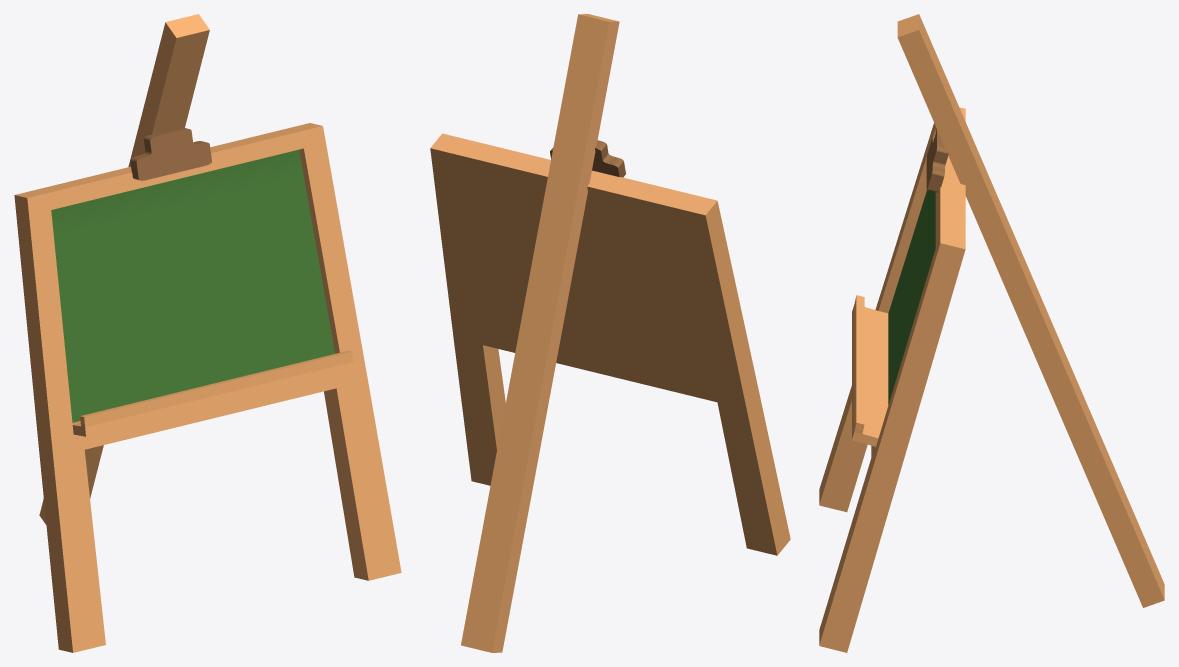
The model's file is karatahta.fbx.
3 renders of one model, left to right at view 1: azimuth 30°, elevation 25°; view 2: azimuth 150°, elevation 25°; view 3: azimuth 270°, elevation 25°, orthographic. The views are drawn at different scales.
Parts seen in each view (by area): view 1: Cube.001; view 2: Cube.001; view 3: Cube.001.
Boxes of the visible parts, x1=… form: Cube.001: x1=14, y1=14, x2=401, y2=652; Cube.001: x1=430, y1=14, x2=790, y2=652; Cube.001: x1=819, y1=14, x2=1164, y2=652.
Size of the model in its own units: 245 by 229 by 422.
